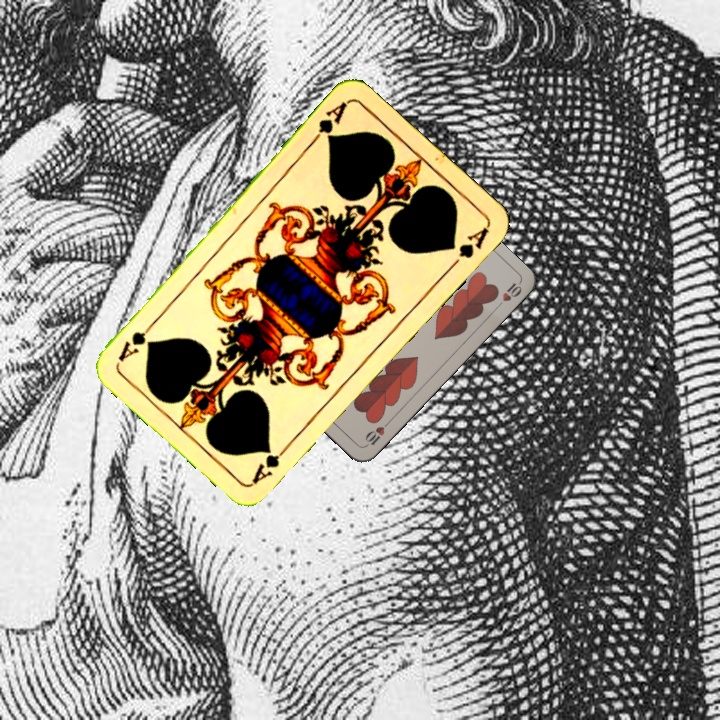GA: (248, 438, 294, 486), (306, 98, 350, 148)
H10: (361, 416, 393, 449)
